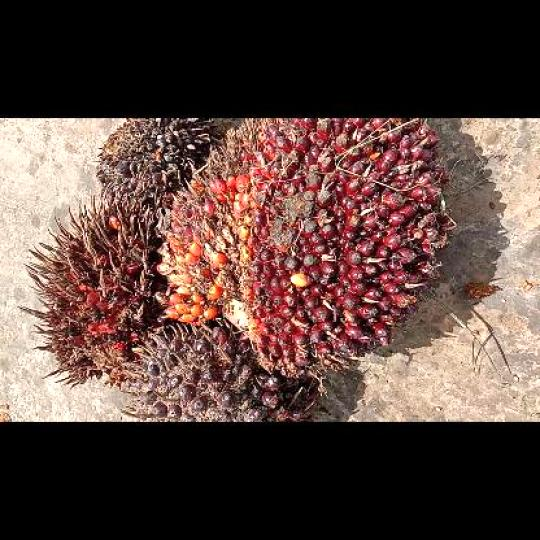kurang masak: (132, 322, 320, 420)
masak: (155, 118, 450, 378)
terlalu masak: (24, 198, 166, 384)
